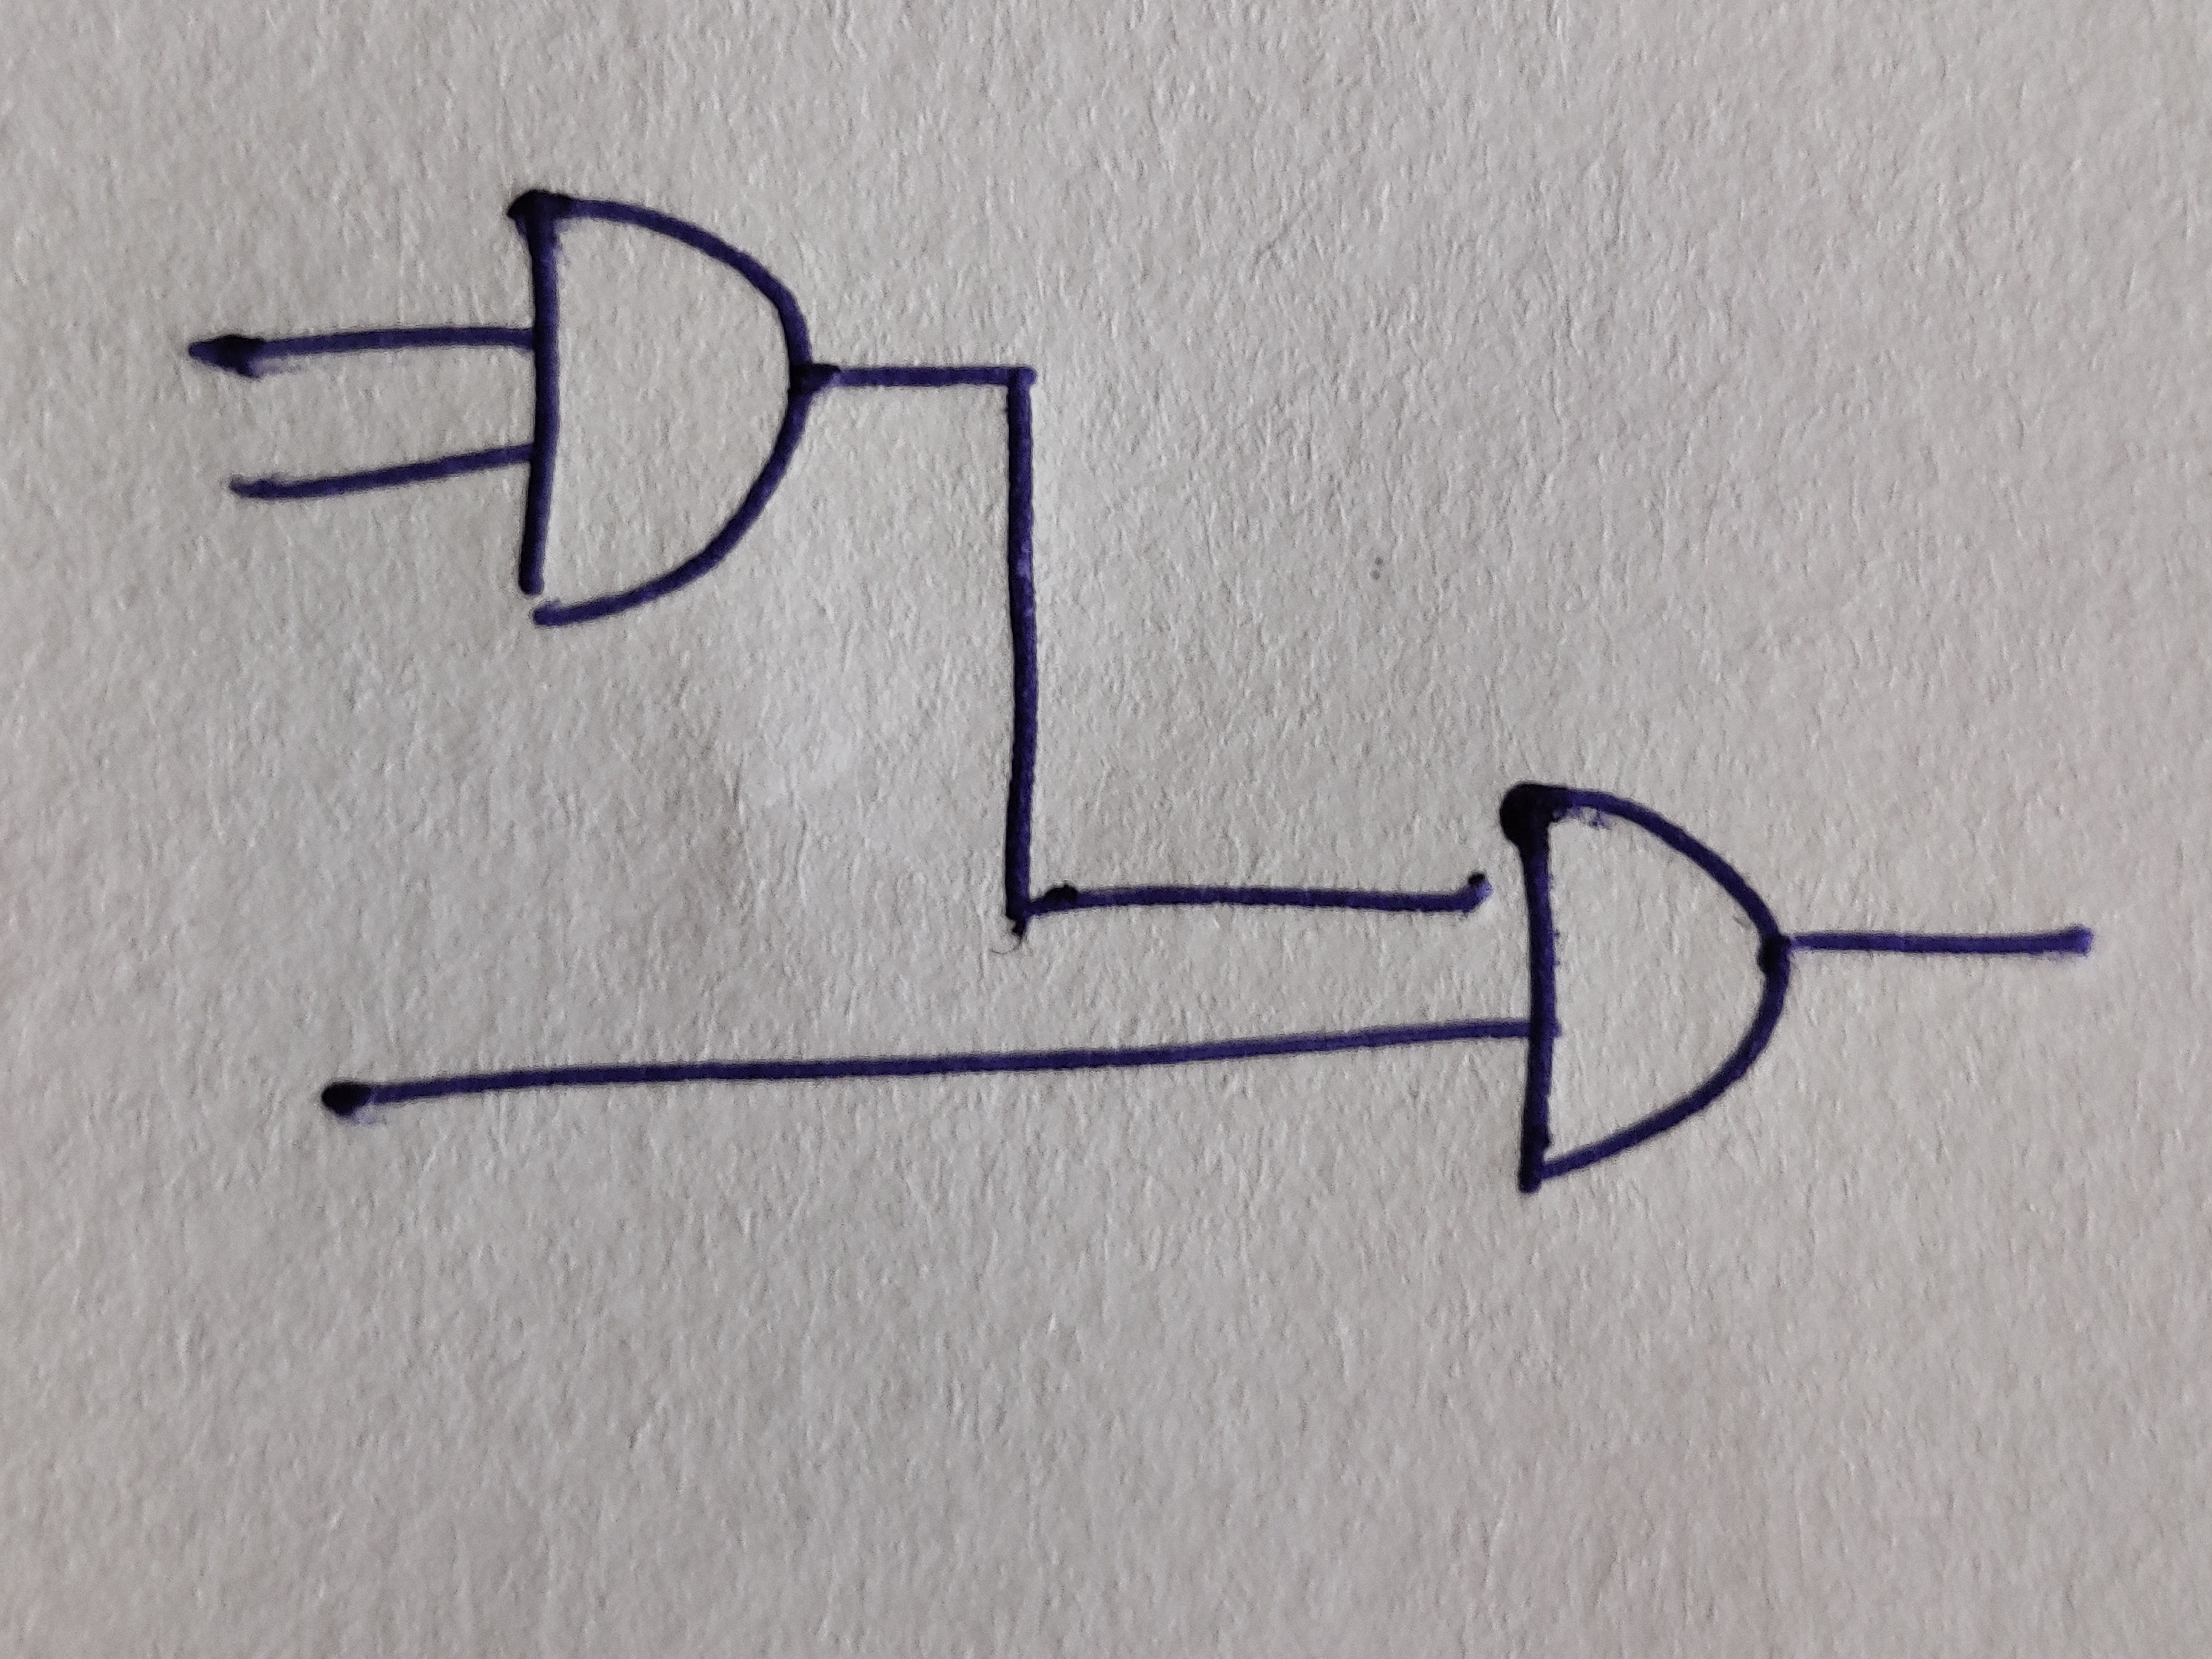and: (507, 190, 812, 629), (1500, 777, 1792, 1192)
